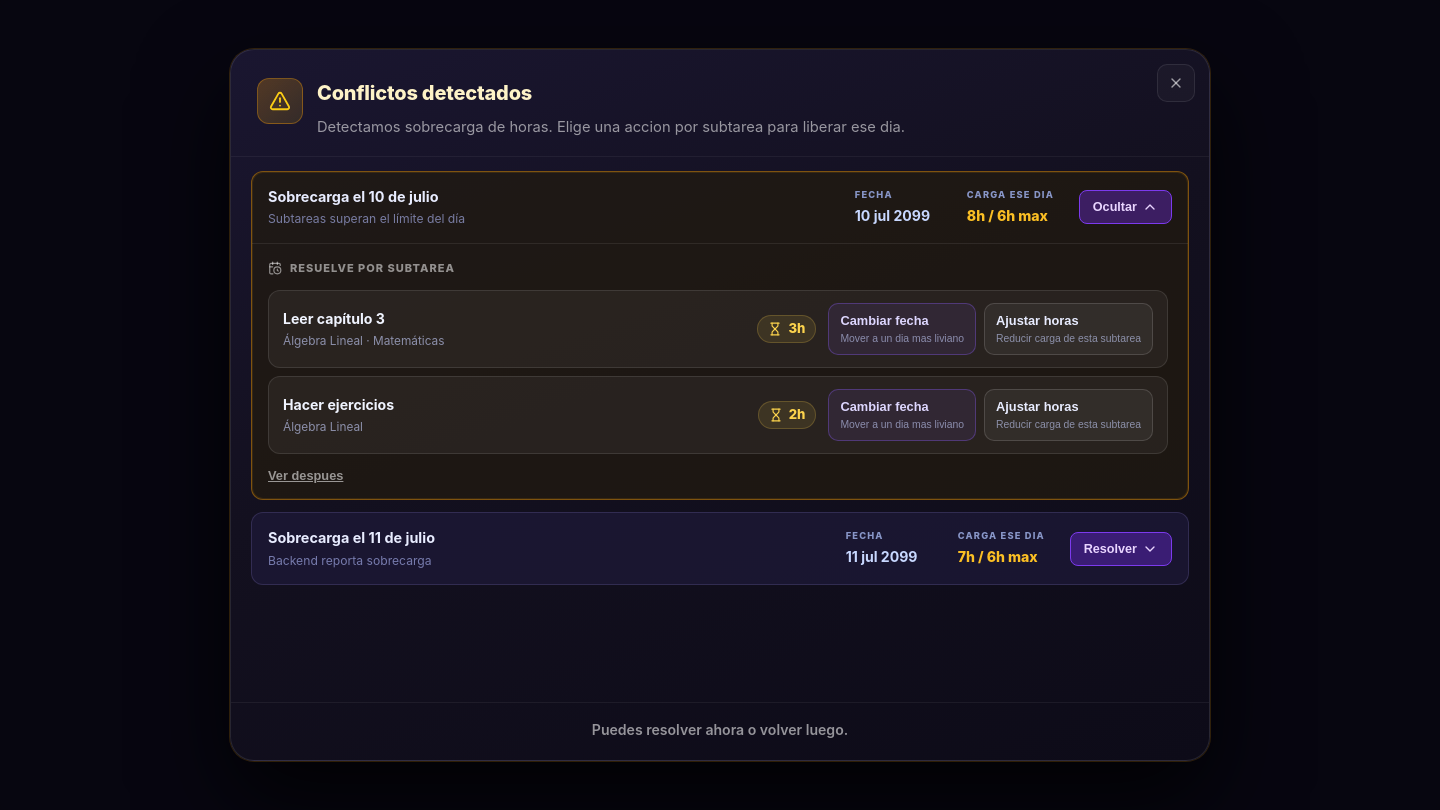
Test: ConflictModal — expand/collapse › expands a collapsed item when 'Resolver' is clicked
Step 1. Click the button with test id "conflict-item-toggle-btn-2" → (1121, 548), box [1070,532,1172,566]
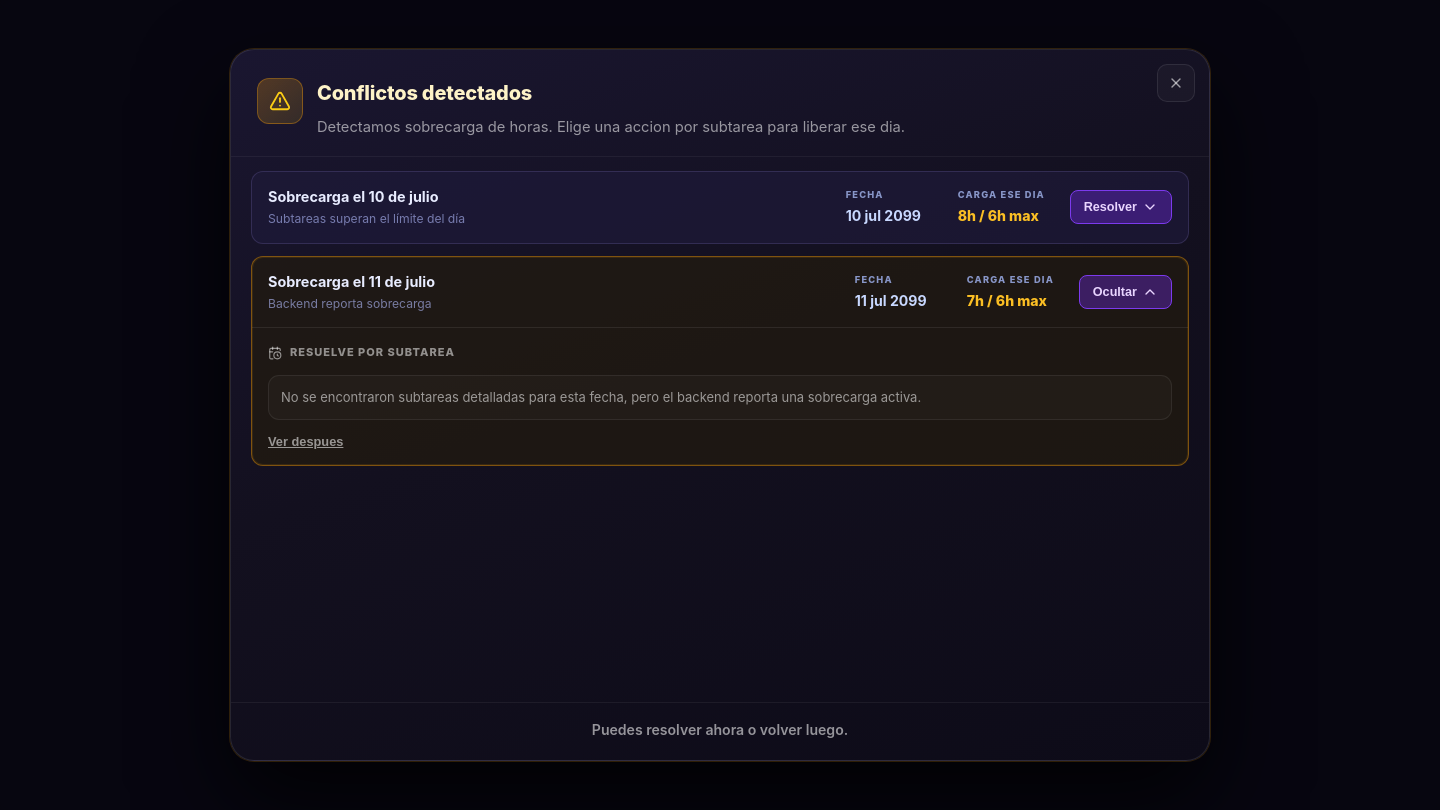
Result: the button with test id "conflict-item-toggle-btn-2" reads "Ocultar" at [1079,275,1172,309]
